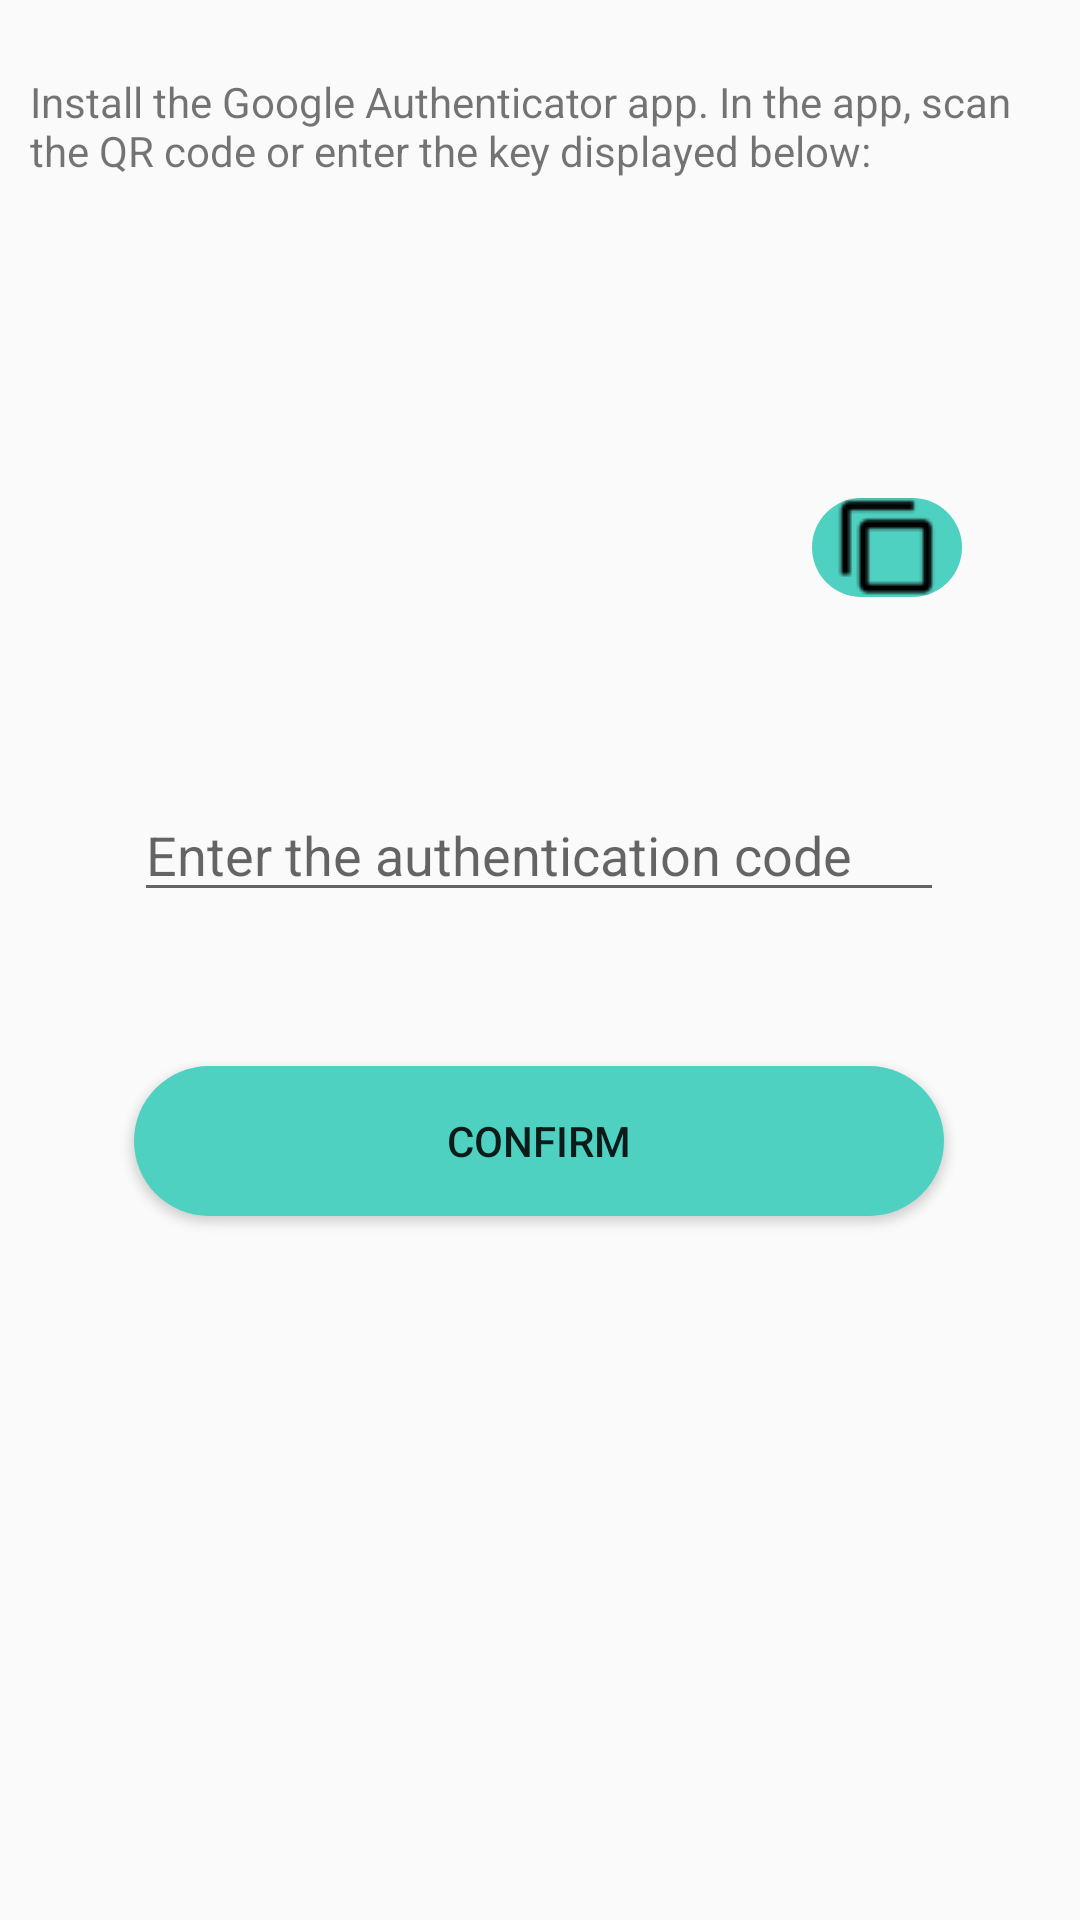

Where icons sit on this 1080*1920 app screen, as (x1, y1, x2, y2):
to clipboard: (812, 498, 962, 597)
